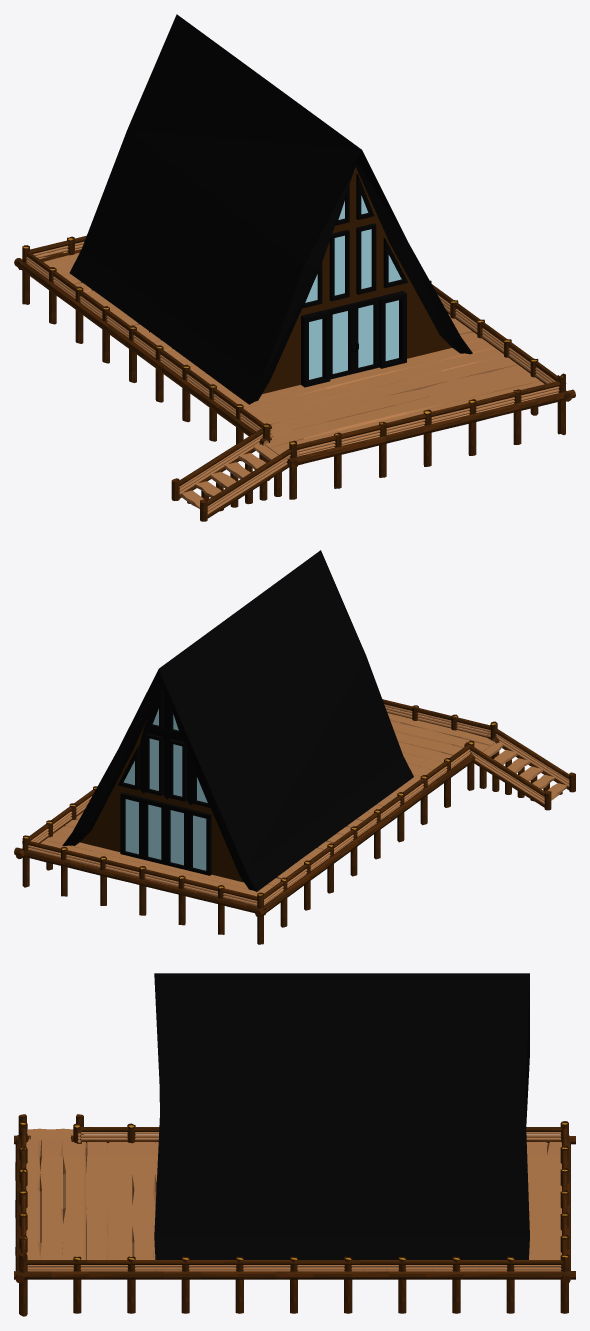
Rendered from wood cabin.fbx.
The picture shows the model from 3 angles, top to bottom: view 1: azimuth 30°, elevation 25°; view 2: azimuth 150°, elevation 25°; view 3: azimuth 270°, elevation 25°; orthographic projection. The views are drawn at different scales.
Visible parts, largest first — view 1: Plane.001, Plane, Plane.005, Cylinder.013, Cylinder.010, Cylinder.009, Cylinder, Cylinder.008, Cylinder.003, Cylinder.011, Plane.003, Cylinder.016 (+5 smaller); view 2: Plane.001, Plane, Plane.005, Cylinder.013, Cylinder.010, Cylinder.009, Cylinder.004, Cylinder.012, Cylinder.011, Plane.003, Cylinder.003, Cylinder.016 (+5 smaller); view 3: Plane.001, Plane.005, Cylinder.010, Cylinder.013, Cylinder.005, Cylinder.006, Cylinder.009, Cylinder.011, Cylinder.002, Plane.002, Cylinder.007, Cylinder.003 (+4 smaller).
Boxes of the visible parts, x1,y1,x2,y2 form: Plane.001: [69, 14, 472, 404]; Plane: [262, 167, 451, 393]; Plane.005: [44, 253, 544, 455]; Cylinder.013: [23, 245, 538, 480]; Cylinder.010: [14, 258, 572, 468]; Cylinder.009: [17, 247, 575, 467]; Cylinder: [289, 389, 521, 499]; Cylinder.008: [297, 386, 559, 455]; Cylinder.003: [25, 252, 266, 428]; Cylinder.011: [26, 257, 261, 431]; Plane.003: [180, 444, 278, 508]; Cylinder.016: [179, 429, 300, 514]; Plane.001: [62, 550, 413, 891]; Plane: [80, 684, 243, 882]; Plane.005: [40, 713, 495, 896]; Cylinder.013: [22, 740, 474, 944]; Cylinder.010: [15, 737, 499, 917]; Cylinder.009: [14, 712, 488, 915]; Cylinder.004: [61, 846, 263, 944]; Cylinder.012: [28, 845, 257, 906]; Cylinder.011: [264, 749, 470, 905]; Plane.003: [483, 742, 567, 800]; Cylinder.003: [264, 743, 470, 899]; Cylinder.016: [470, 730, 569, 803]; Plane.001: [154, 973, 529, 1259]; Plane.005: [26, 1139, 561, 1270]; Cylinder.010: [14, 1135, 575, 1279]; Cylinder.013: [73, 1121, 568, 1313]; Cylinder.005: [27, 1265, 561, 1271]; Cylinder.006: [26, 1260, 564, 1264]; Cylinder.009: [15, 1135, 570, 1283]; Cylinder.011: [81, 1132, 561, 1140]; Cylinder.002: [20, 1129, 26, 1253]; Plane.002: [39, 1142, 547, 1270]; Cylinder.007: [562, 1128, 567, 1265]; Cylinder.003: [81, 1127, 561, 1131].
Size of the model in its own units: 260 by 181 by 336.
